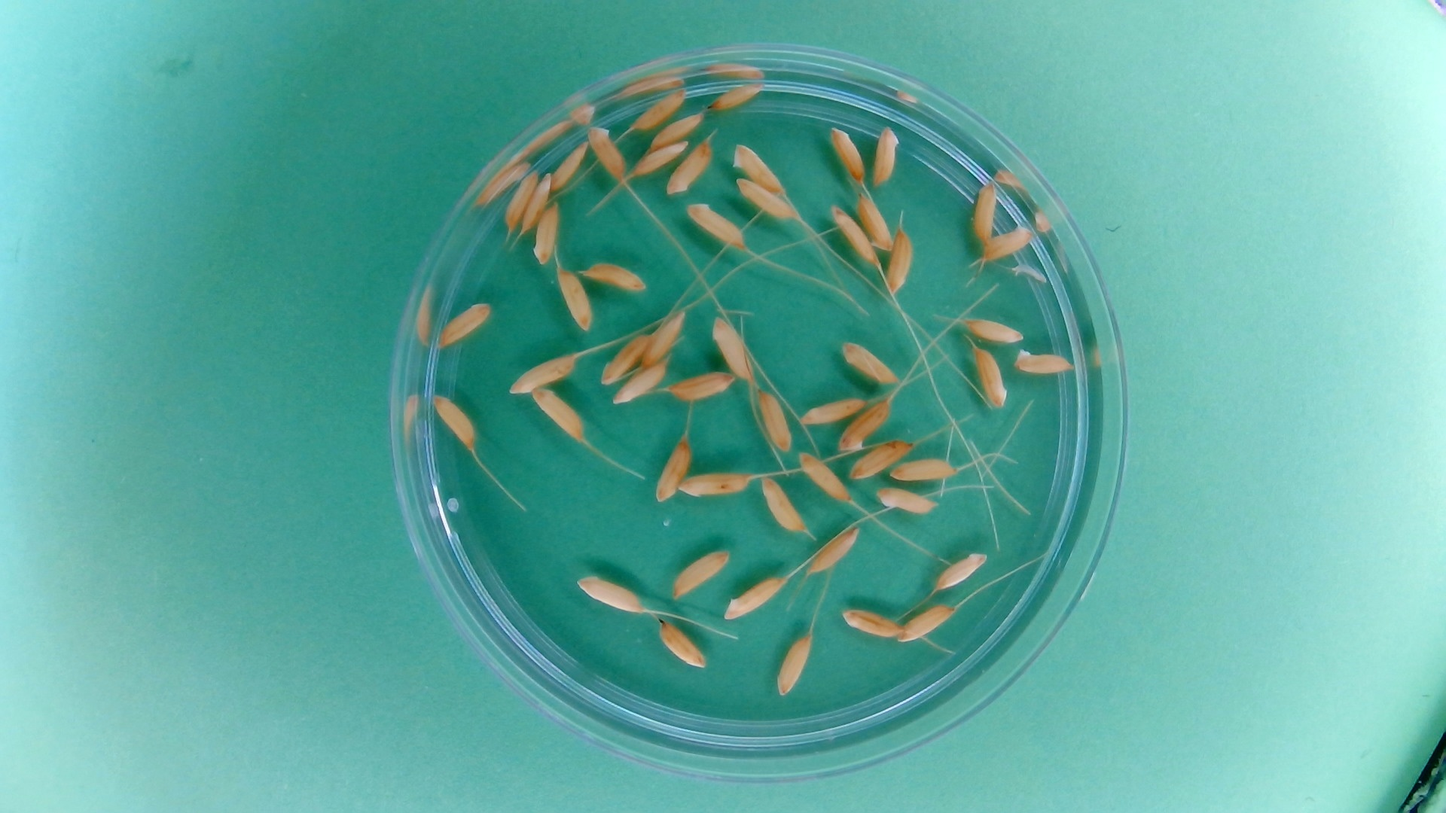no: (837, 394, 895, 454), (729, 139, 790, 196), (682, 199, 748, 251), (828, 202, 879, 268), (530, 384, 587, 443), (638, 306, 688, 373), (670, 547, 732, 601), (709, 313, 756, 384), (731, 175, 799, 222), (506, 352, 579, 395), (599, 329, 654, 386), (723, 573, 788, 621), (435, 298, 494, 350), (610, 355, 670, 406), (664, 136, 714, 196), (758, 473, 807, 534), (838, 338, 900, 386), (796, 449, 850, 504), (807, 523, 863, 576), (655, 617, 709, 671), (627, 85, 689, 132), (651, 435, 693, 504), (430, 391, 478, 451), (752, 385, 793, 455), (848, 438, 914, 481), (554, 264, 594, 333), (575, 574, 644, 614), (773, 632, 815, 697), (647, 109, 708, 151), (970, 344, 1008, 411), (855, 190, 896, 251), (584, 123, 627, 181), (897, 603, 957, 644), (665, 370, 737, 404), (798, 394, 870, 428), (630, 138, 691, 178), (827, 123, 866, 185), (676, 468, 753, 499), (548, 139, 590, 195), (934, 550, 989, 592), (581, 260, 648, 294), (839, 606, 905, 640), (520, 169, 554, 234), (980, 224, 1035, 264), (531, 199, 563, 266), (884, 226, 915, 295), (869, 123, 901, 189), (887, 456, 958, 485), (706, 80, 767, 113), (969, 178, 999, 245), (1011, 346, 1075, 377), (963, 315, 1027, 345), (874, 486, 938, 516), (507, 171, 536, 230)
